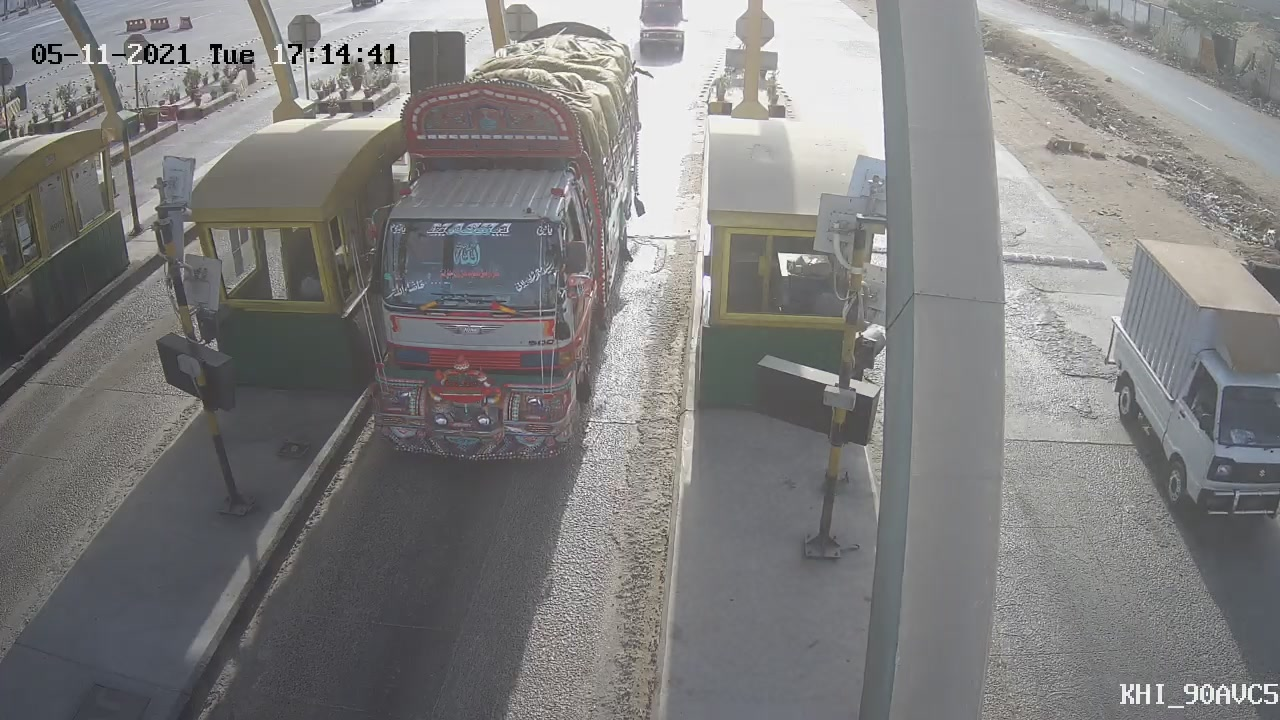F5: (314, 1, 670, 486)
